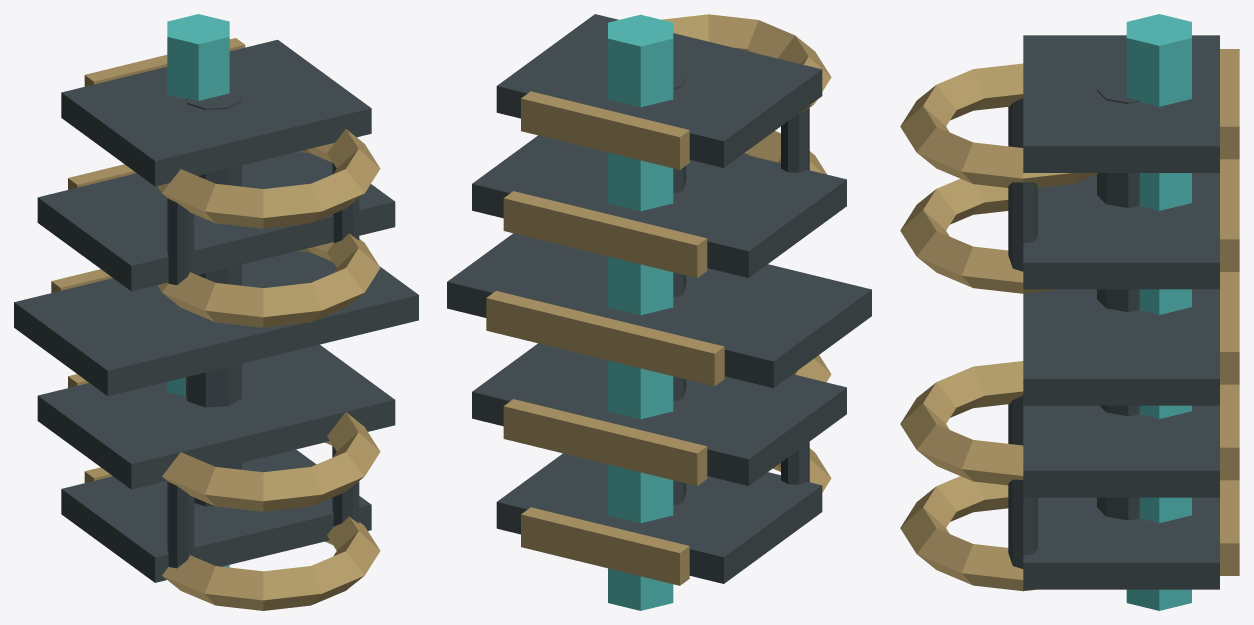
Rendered from Equip_CoolingFins.fbx.
3 renders of one model, left to right at view 1: azimuth 30°, elevation 25°; view 2: azimuth 150°, elevation 25°; view 3: azimuth 270°, elevation 25°, orthographic. The views are drawn at different scales.
Parts seen in each view (by area): view 1: Equip_CoolingFins; view 2: Equip_CoolingFins; view 3: Equip_CoolingFins.
Part boxes in pixels (x1=…): Equip_CoolingFins: x1=14, y1=14, x2=418, y2=610; Equip_CoolingFins: x1=447, y1=14, x2=871, y2=610; Equip_CoolingFins: x1=900, y1=14, x2=1239, y2=610.
Bounding box in the file's own units: 0.23 × 0.38 × 0.207.
